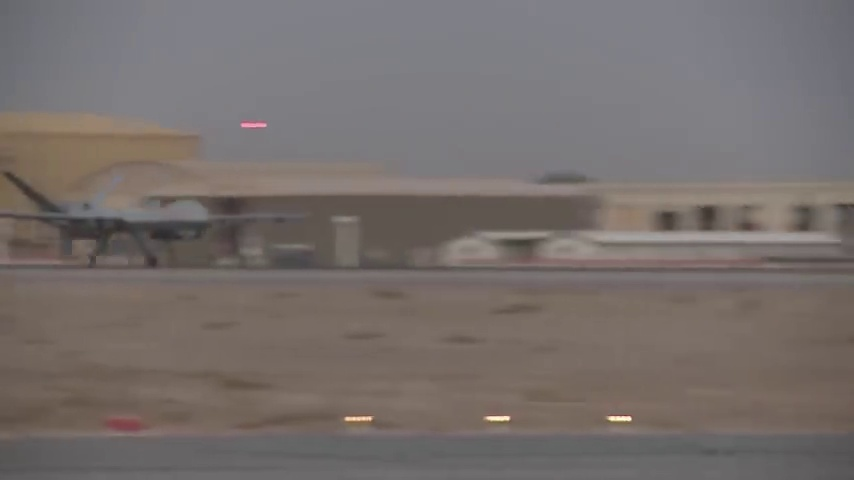military drone: (0, 171, 313, 267)
